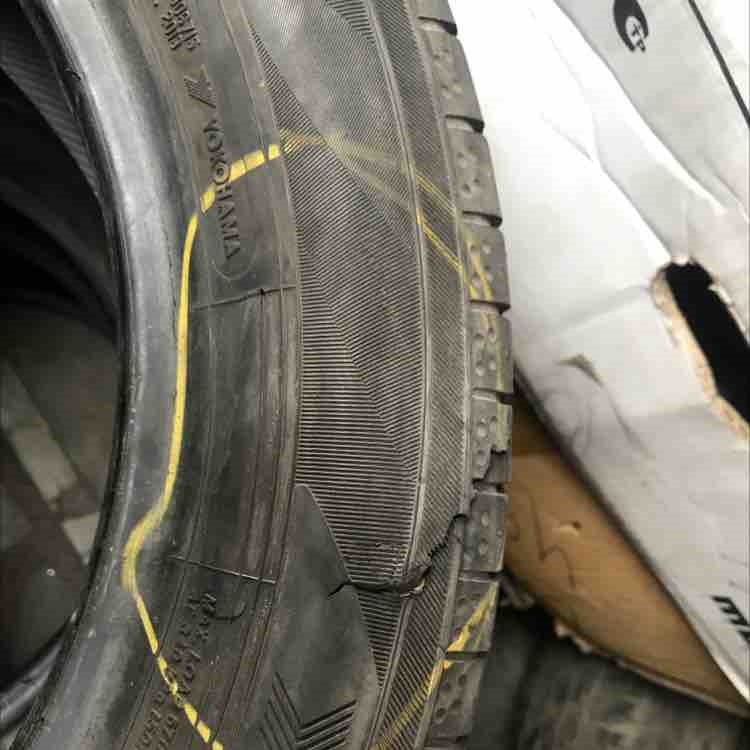cut: (323, 435, 502, 605)
